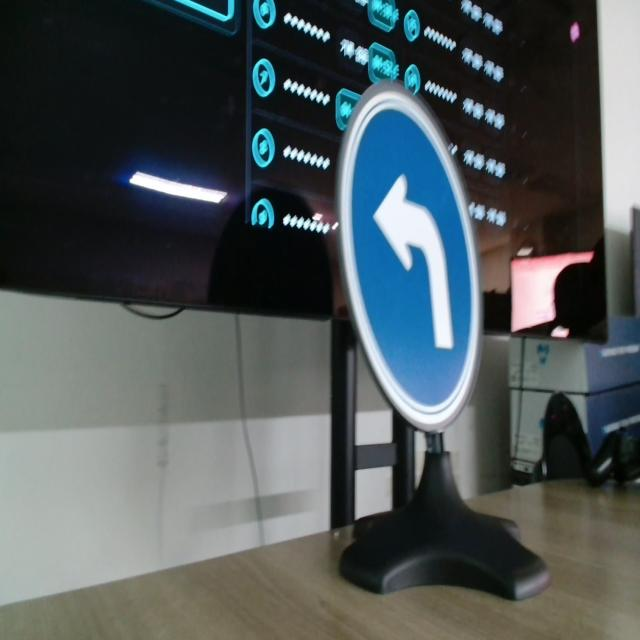left_direction: (336, 80, 484, 432)
